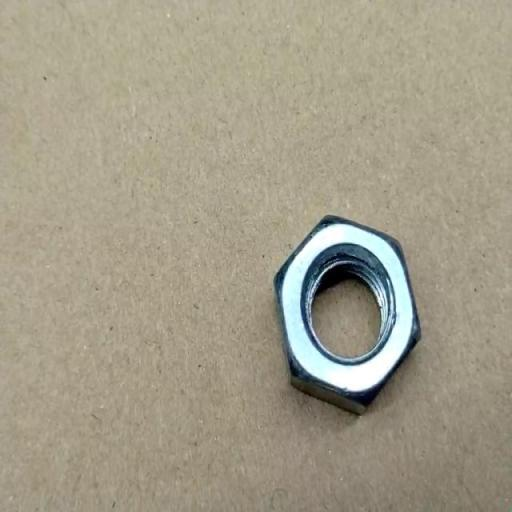Nut: (272, 214, 422, 416)
